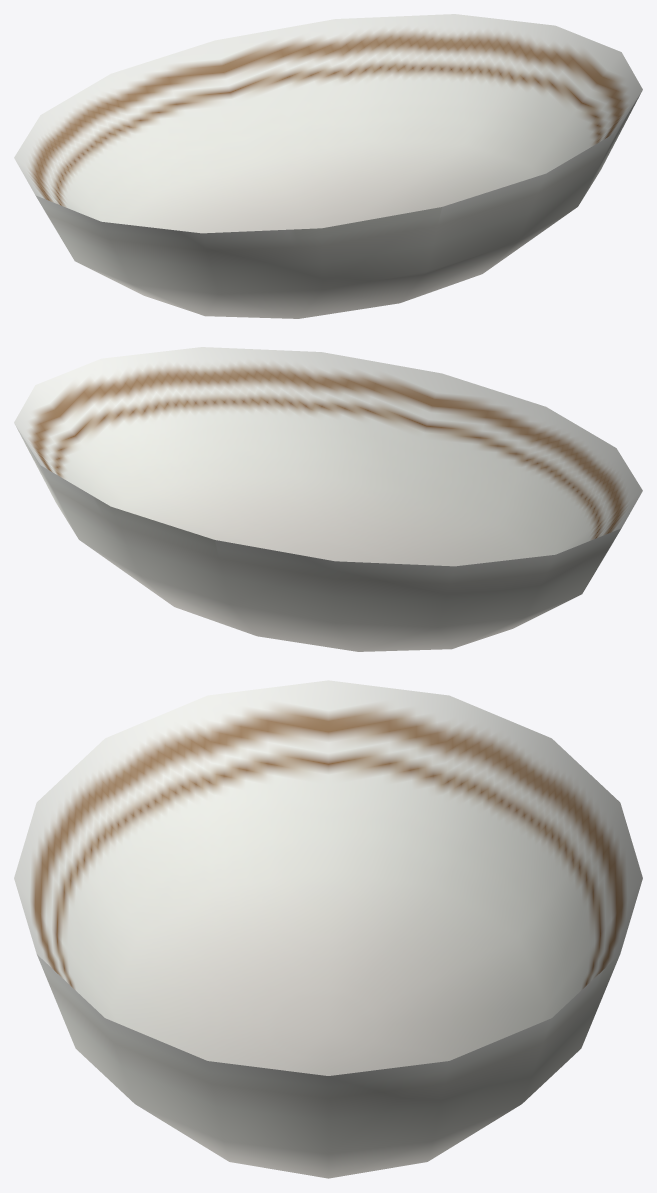
Rendered from KR_Round_tray_01_04.fbx.
3 renders of one model, top to bottom at view 1: azimuth 30°, elevation 25°; view 2: azimuth 150°, elevation 25°; view 3: azimuth 270°, elevation 25°, orthographic. The views are drawn at different scales.
Visible parts, largest first — view 1: kr_round_tray_01_04; view 2: kr_round_tray_01_04; view 3: kr_round_tray_01_04.
Part boxes in pixels (x1,y1,x2,y2): kr_round_tray_01_04: (14, 14, 642, 318); kr_round_tray_01_04: (14, 347, 642, 651); kr_round_tray_01_04: (14, 680, 642, 1178).
Bounding box in the file's own units: 26.5 × 5.5 × 17.8.
